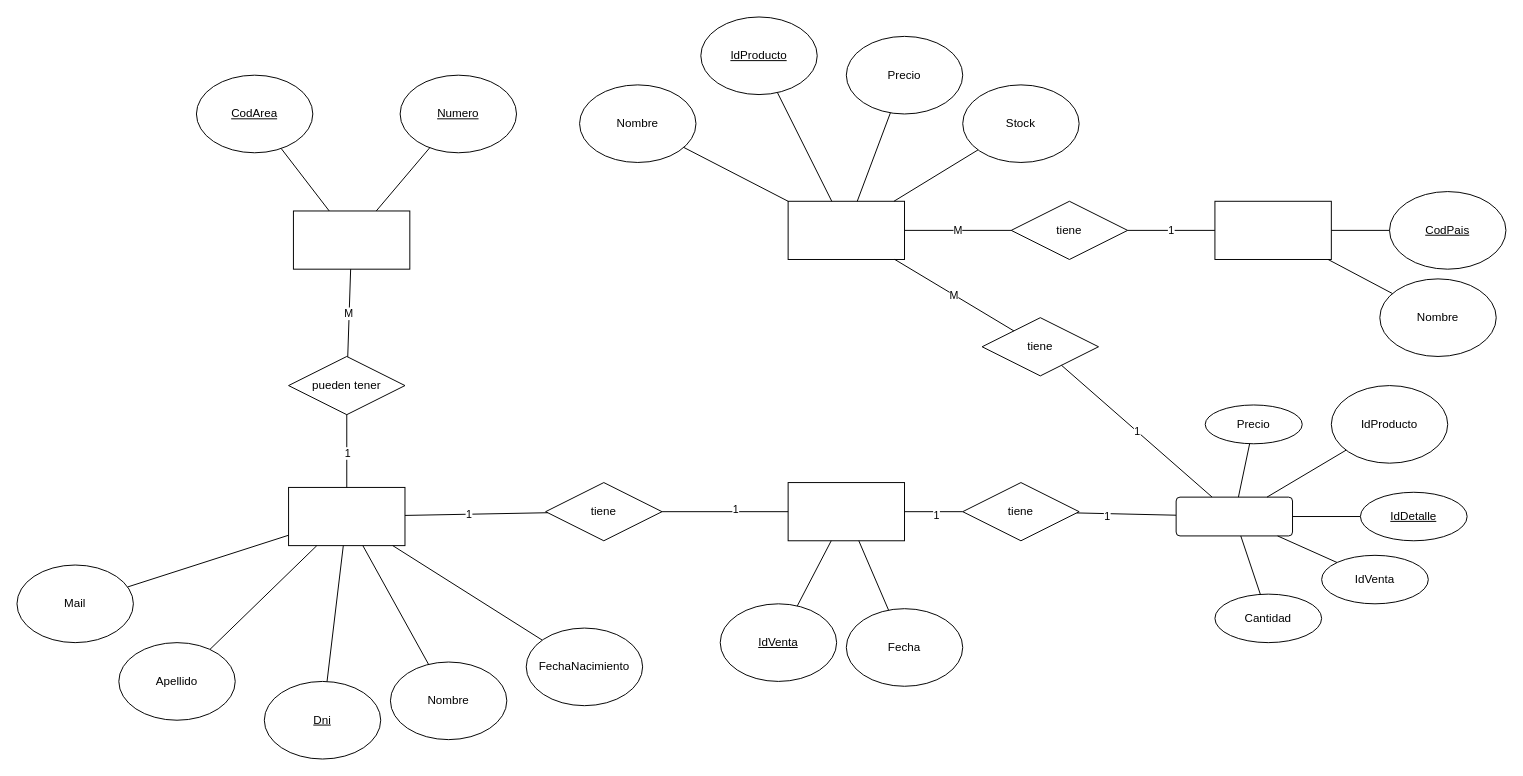
This 1523x776 diagram has some shape labels left out. Each missing label, with the centre of its shape:
CLIENTES: point (346, 516)
DETALLES VENTAS: point (1234, 516)
PAIS: point (1272, 229)
PRODUCTOS: point (846, 229)
TELEFONOS: point (351, 239)
VENTAS: point (846, 511)
